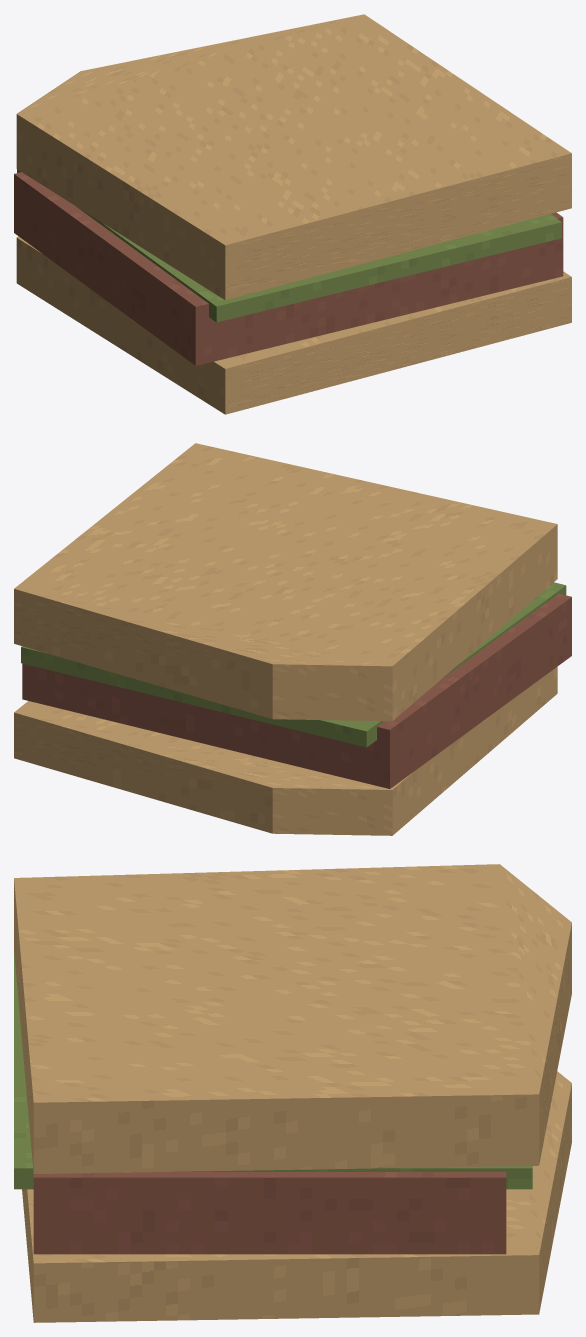
Rendered from sandwich_deluxe.glb.
The picture shows the model from 3 angles, top to bottom: view 1: azimuth 30°, elevation 25°; view 2: azimuth 150°, elevation 25°; view 3: azimuth 270°, elevation 25°; orthographic projection. The views are drawn at different scales.
Parts seen in each view (by area): view 1: block_upper slice, block_filling, block_lower slice, block_second filling; view 2: block_upper slice, block_lower slice, block_filling, block_second filling; view 3: block_upper slice, block_lower slice, block_filling, block_second filling.
Boxes of the visible parts, bbox=[...] form: block_upper slice: bbox=[16, 14, 571, 300]; block_filling: bbox=[14, 172, 563, 365]; block_lower slice: bbox=[16, 236, 571, 414]; block_second filling: bbox=[17, 169, 561, 322]; block_upper slice: bbox=[14, 443, 557, 721]; block_lower slice: bbox=[14, 666, 557, 835]; block_filling: bbox=[22, 593, 571, 788]; block_second filling: bbox=[21, 582, 566, 747]; block_upper slice: bbox=[14, 864, 571, 1173]; block_lower slice: bbox=[22, 1071, 571, 1322]; block_filling: bbox=[33, 1172, 506, 1254]; block_second filling: bbox=[14, 951, 532, 1189].
Bounding box in the file's own units: 0.0905 × 0.0389 × 0.0894.
1 material, 1 textured.
